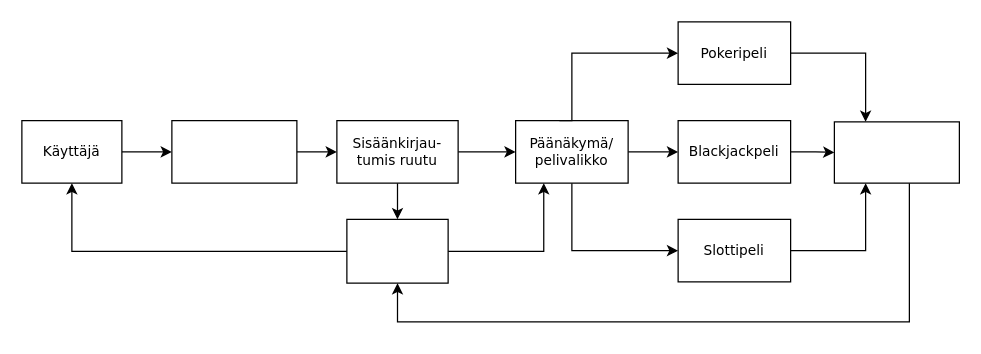
Some shapes in this 981 by 354 pixel diagram are drawn without their labels. The centre of each missing label's shape, as x and y in pixels:
Käyttäjän tiedot tallennettu: point 397,250
Ohjelma käynnistetty: point 234,151
Ohjelma suljettu: point 896,152
